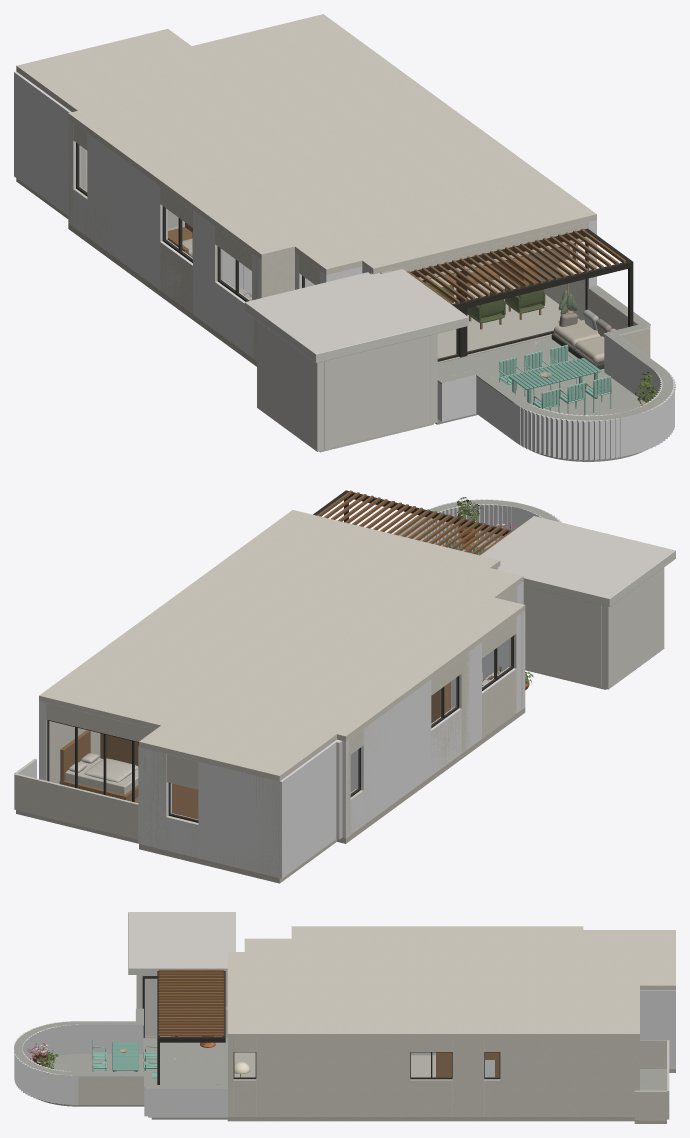
Rendered from bilu6_public_terrace.glb.
The picture shows the model from 3 angles, top to bottom: view 1: azimuth 30°, elevation 25°; view 2: azimuth 150°, elevation 25°; view 3: azimuth 270°, elevation 25°; orthographic projection. The views are drawn at different scales.
Parts seen in each view (by area): view 1: STATIC_public_WEB_Mineral_plaster_warm_offwhite.001, Daylit_Terrace_Furnishings, STATIC_terrace_WEB_Terrace_mineral_paving.001, COL_Architectural_wall_segment_072, STATIC_terrace_WEB_Oiled_medium_oak.001, COL_Architectural_wall_segment_017, Floor_slab_000.001, Daylit_Interior_Furnishings, STATIC_terrace_WEB_Dark_bronze_powdercoat.001, COL_Architectural_wall_segment_081, STATIC_public_WEB_Dark_bronze_powdercoat.001, COL_Architectural_wall_segment_082 (+6 smaller); view 2: STATIC_public_WEB_Mineral_plaster_warm_offwhite.001, Daylit_Terrace_Furnishings, COL_Architectural_wall_segment_008, COL_Architectural_wall_segment_072, Daylit_Interior_Furnishings, COL_Architectural_wall_segment_017, STATIC_terrace_WEB_Oiled_medium_oak.001, COL_Architectural_wall_segment_016, Floor_slab_000.001, STATIC_public_WEB_Dark_bronze_powdercoat.001, COL_Architectural_wall_segment_081, COL_Architectural_wall_segment_073 (+6 smaller); view 3: STATIC_public_WEB_Mineral_plaster_warm_offwhite.001, Daylit_Terrace_Furnishings, STATIC_terrace_WEB_Terrace_mineral_paving.001, STATIC_terrace_WEB_Oiled_medium_oak.001, Floor_slab_000.001, COL_Terrace_parapet_or_cap_399, STATIC_terrace_WEB_Mineral_plaster_warm_offwhite.001, COL_Terrace_parapet_or_cap_501, COL_Architectural_wall_segment_018, STATIC_terrace_WEB_Dark_bronze_powdercoat.001, COL_Architectural_wall_segment_016, STATIC_public_WEB_Terrace_mineral_paving.001 (+2 smaller).
Boxes of the visible parts, left/top/right/bottom form: STATIC_public_WEB_Mineral_plaster_warm_offwhite.001: left=16, top=14, right=596, bottom=360; Daylit_Terrace_Furnishings: left=244, top=269, right=615, bottom=452; STATIC_terrace_WEB_Terrace_mineral_paving.001: left=435, top=285, right=673, bottom=461; COL_Architectural_wall_segment_072: left=87, top=133, right=167, bottom=289; STATIC_terrace_WEB_Oiled_medium_oak.001: left=407, top=228, right=626, bottom=304; COL_Architectural_wall_segment_017: left=20, top=76, right=71, bottom=215; Floor_slab_000.001: left=16, top=178, right=580, bottom=366; Daylit_Interior_Furnishings: left=168, top=222, right=577, bottom=329; STATIC_terrace_WEB_Dark_bronze_powdercoat.001: left=410, top=228, right=633, bottom=326; COL_Architectural_wall_segment_081: left=193, top=210, right=222, bottom=330; STATIC_public_WEB_Dark_bronze_powdercoat.001: left=76, top=142, right=587, bottom=361; COL_Architectural_wall_segment_082: left=215, top=280, right=251, bottom=357; STATIC_public_WEB_Mineral_plaster_warm_offwhite.001: left=14, top=510, right=525, bottom=877; Daylit_Terrace_Furnishings: left=445, top=516, right=675, bottom=689; COL_Architectural_wall_segment_008: left=198, top=761, right=287, bottom=878; COL_Architectural_wall_segment_072: left=356, top=679, right=431, bottom=824; Daylit_Interior_Furnishings: left=59, top=666, right=502, bottom=819; COL_Architectural_wall_segment_017: left=286, top=739, right=338, bottom=874; STATIC_terrace_WEB_Oiled_medium_oak.001: left=316, top=490, right=513, bottom=555; COL_Architectural_wall_segment_016: left=138, top=746, right=171, bottom=850; Floor_slab_000.001: left=16, top=672, right=525, bottom=883; STATIC_public_WEB_Dark_bronze_powdercoat.001: left=47, top=635, right=513, bottom=822; COL_Architectural_wall_segment_081: left=454, top=642, right=481, bottom=750; COL_Architectural_wall_segment_073: left=431, top=707, right=461, bottom=775; STATIC_public_WEB_Mineral_plaster_warm_offwhite.001: left=227, top=926, right=675, bottom=1119; Daylit_Terrace_Furnishings: left=92, top=912, right=235, bottom=1084; STATIC_terrace_WEB_Terrace_mineral_paving.001: left=14, top=1007, right=227, bottom=1119; STATIC_terrace_WEB_Oiled_medium_oak.001: left=158, top=969, right=224, bottom=1036; Floor_slab_000.001: left=227, top=1052, right=675, bottom=1123; COL_Terrace_parapet_or_cap_399: left=148, top=1089, right=227, bottom=1117; STATIC_terrace_WEB_Mineral_plaster_warm_offwhite.001: left=78, top=1010, right=227, bottom=1104; COL_Terrace_parapet_or_cap_501: left=78, top=1025, right=136, bottom=1053; COL_Architectural_wall_segment_018: left=640, top=990, right=666, bottom=1040; STATIC_terrace_WEB_Dark_bronze_powdercoat.001: left=142, top=971, right=225, bottom=1084; COL_Architectural_wall_segment_016: left=667, top=990, right=675, bottom=1068; STATIC_public_WEB_Terrace_mineral_paving.001: left=639, top=1069, right=666, bottom=1120.
Bounding box in the file's own units: 10.35 × 3.26 × 22.13.
66 materials, 22 textured.
